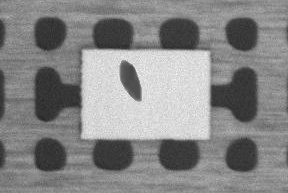DIE_INK: (172, 37, 216, 71)
